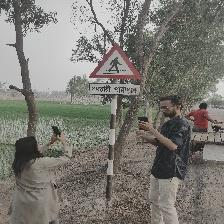Pedestrian-crossing: (88, 43, 142, 96)
